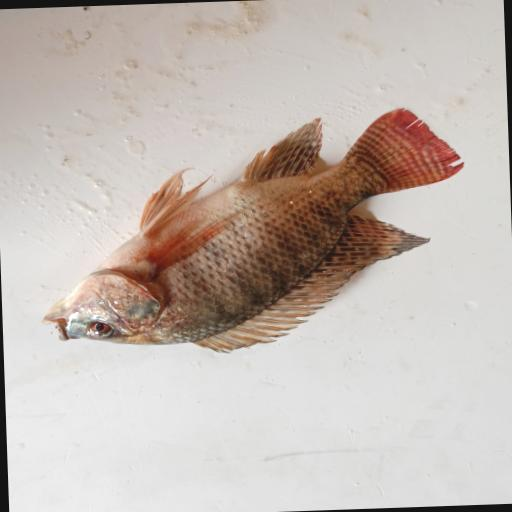Tilapia: (34, 105, 471, 359)
